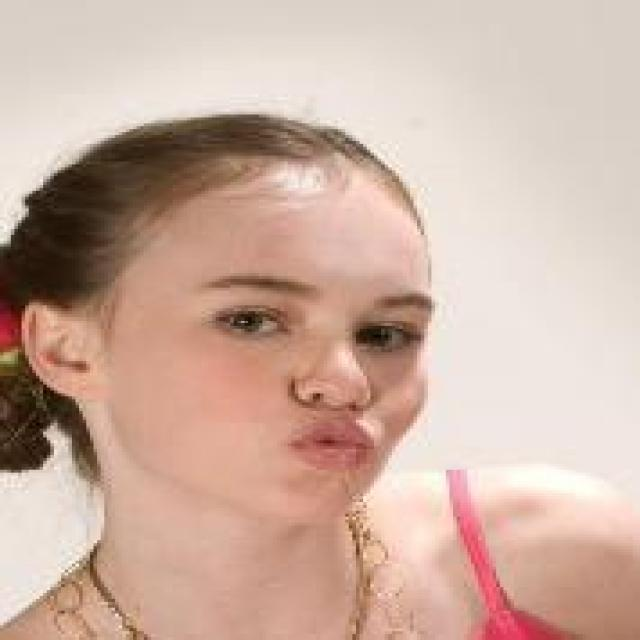bareface: (10, 116, 432, 528)
